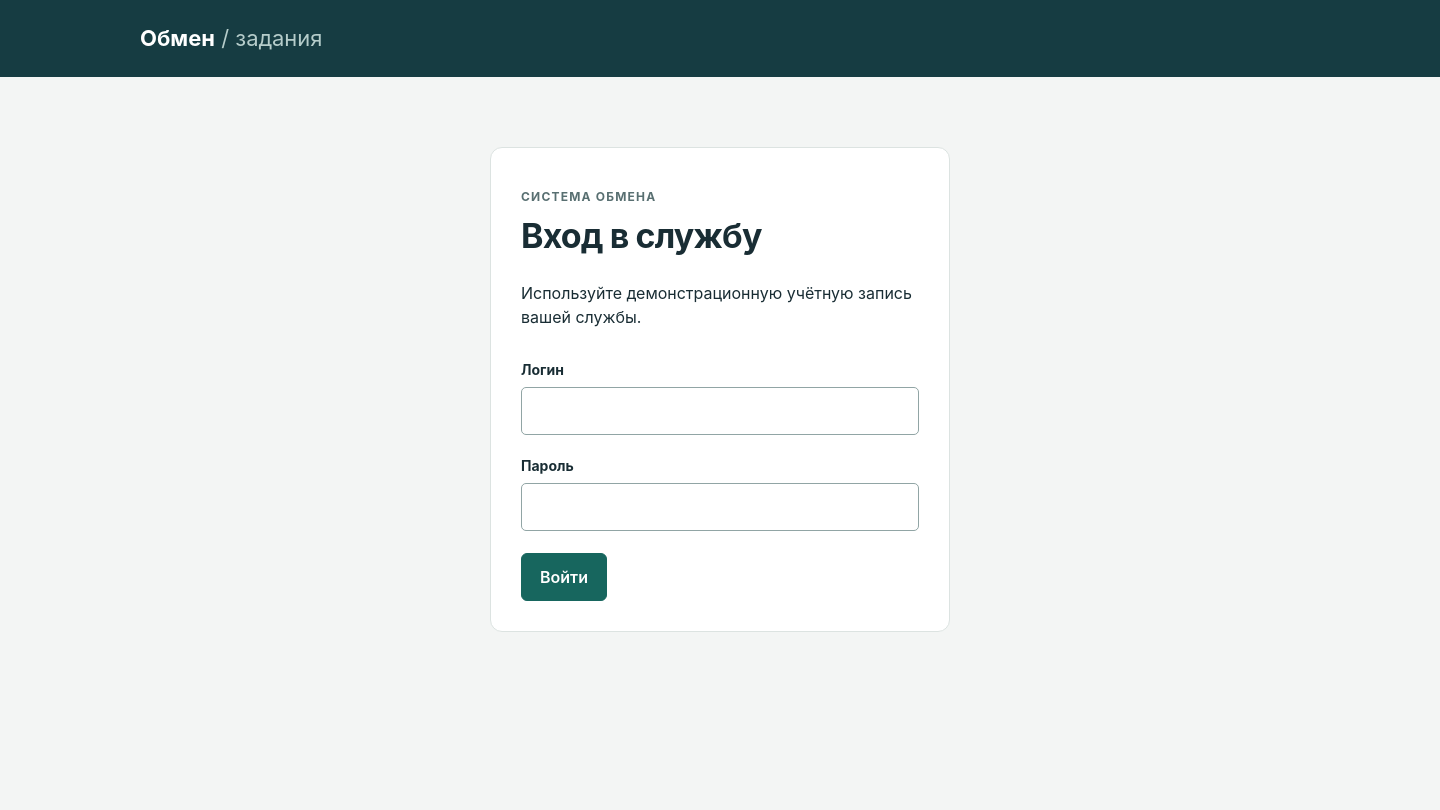
Scenario: F-T001: вход показывает пользователя и службу, выход скрывает защищённые данные
Type "initiator1" into the field labelled "Логин". click: (720, 411)
box: [521, 387, 919, 435]
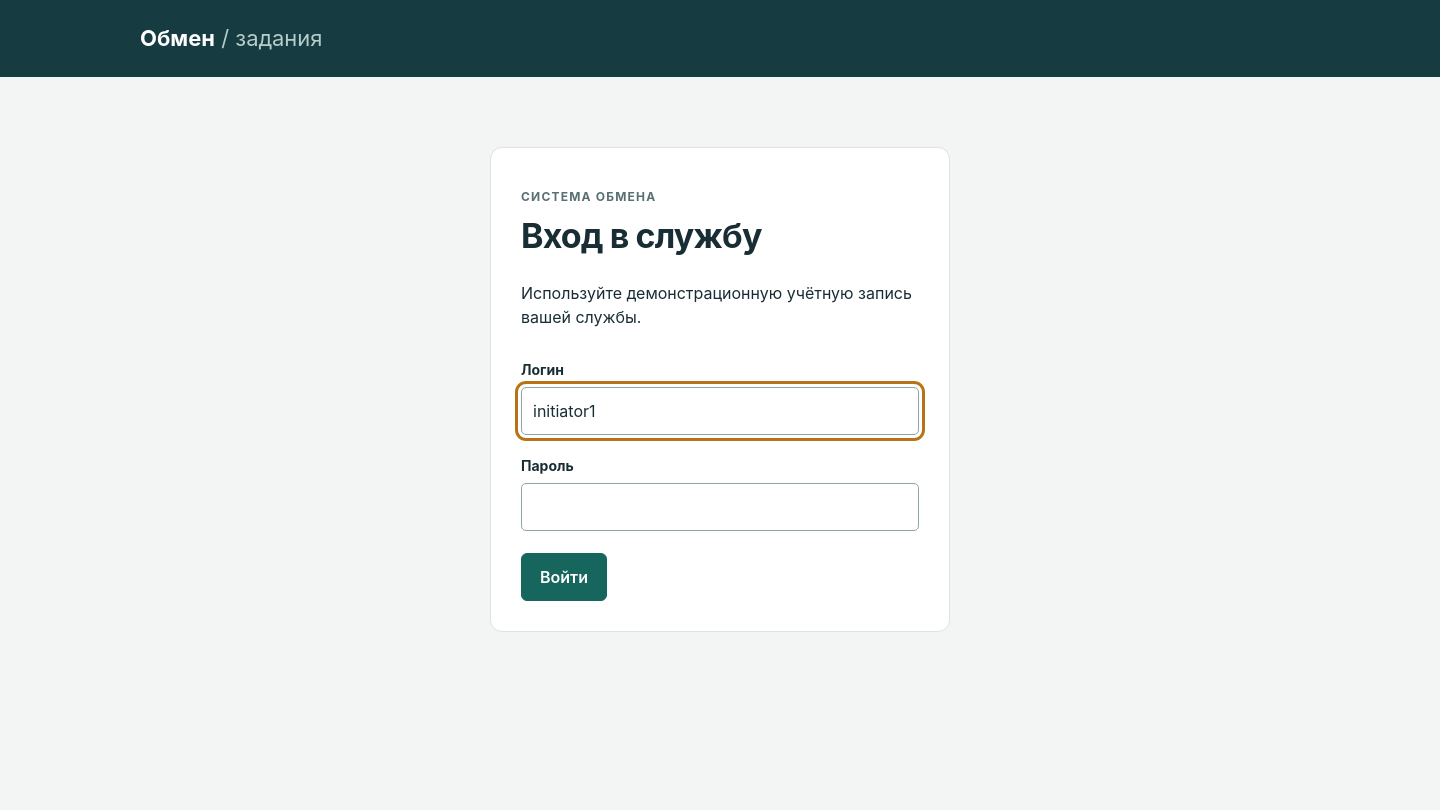
Type "password" into the password field labelled "Пароль". click: (720, 507)
box: [521, 483, 919, 531]
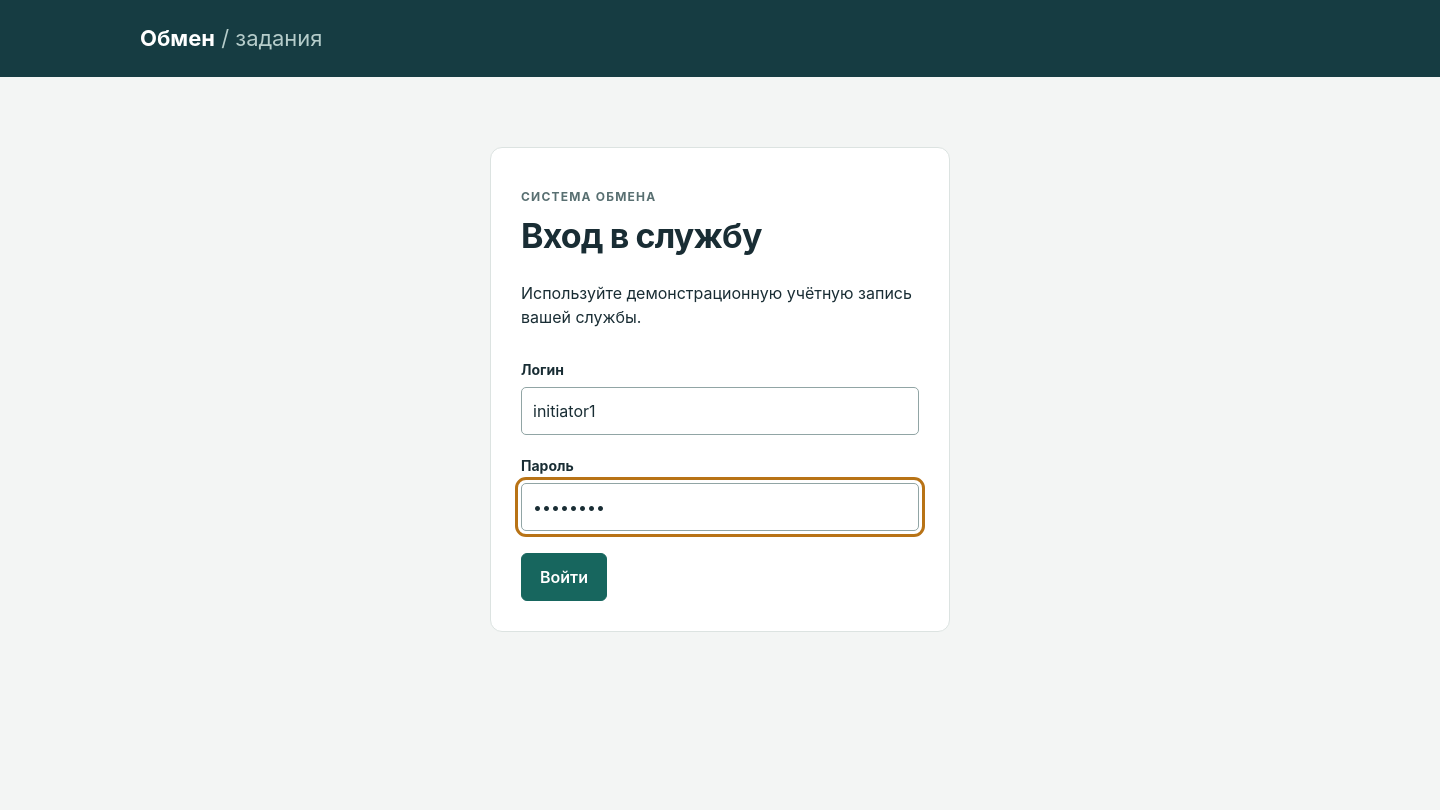
Click the button "Войти". click: (564, 577)
box: [521, 553, 607, 601]
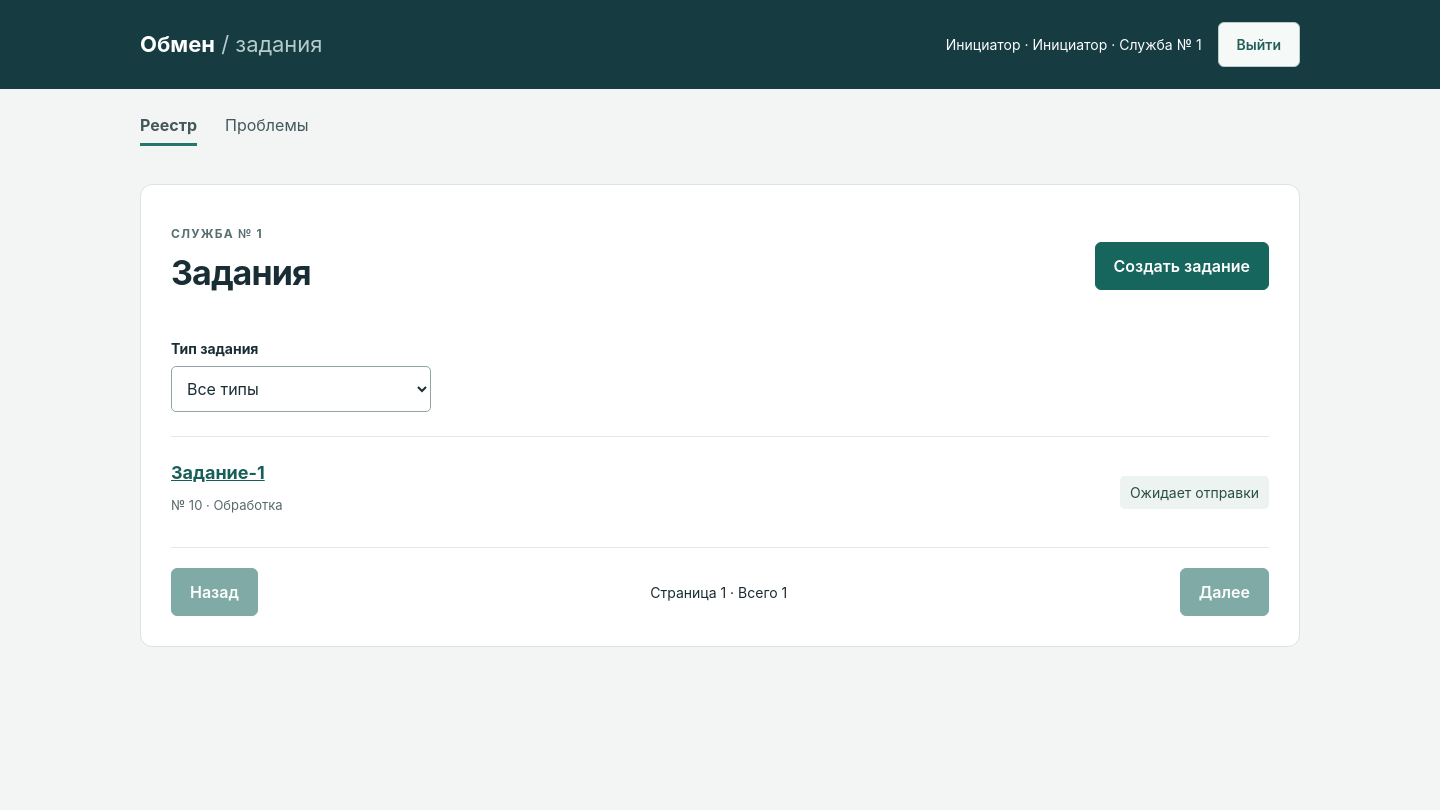
expect the link "Задание-1" is shown: met, box [171, 462, 265, 483]
expect the text "Инициатор · Инициатор · Служба № 1" is shown: met, box [946, 34, 1202, 55]
Click the button "Выйти". click: (1259, 44)
box: [1218, 22, 1300, 67]
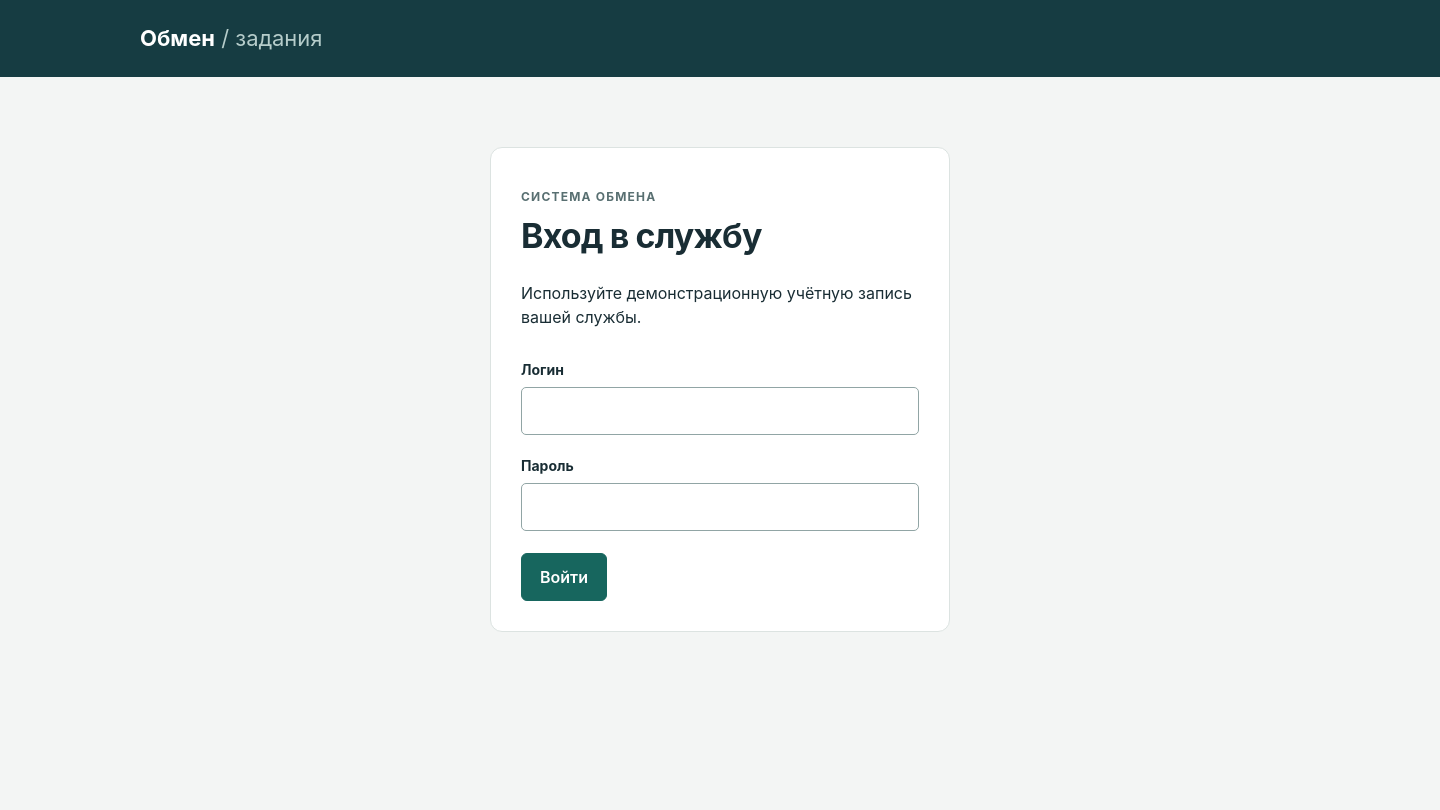
expect the heading "Вход в службу" is shown: met, box [521, 215, 762, 256]
expect the link "Задание-1" is gone: met
